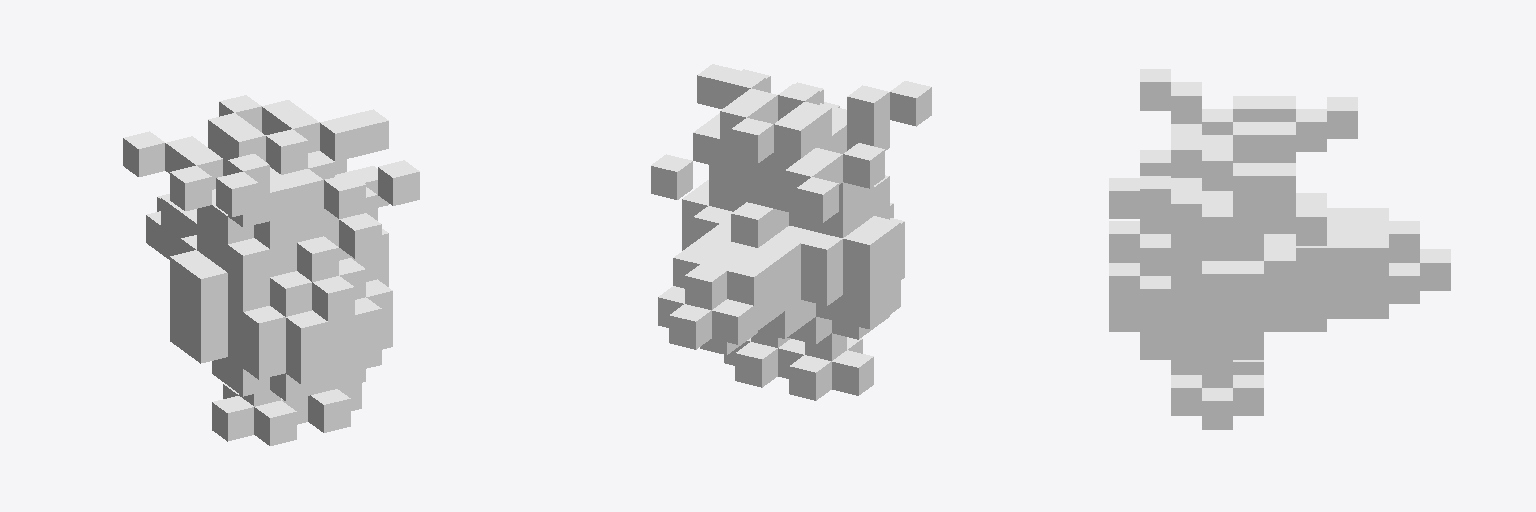
File: Skebob.obj
The picture shows the model from 3 angles: view 1: azimuth 30°, elevation 25°; view 2: azimuth 150°, elevation 25°; view 3: azimuth 270°, elevation 25°; orthographic projection.
Visible parts, largest first — view 1: GnomeBase; view 2: GnomeBase; view 3: GnomeBase.
Part boxes in pixels (left/top/right/bottom): GnomeBase: left=123, top=95, right=419, bottom=445; GnomeBase: left=651, top=64, right=931, bottom=400; GnomeBase: left=1109, top=69, right=1450, bottom=429.
Bounding box in the file's own units: 0.7 × 1 × 1.1.